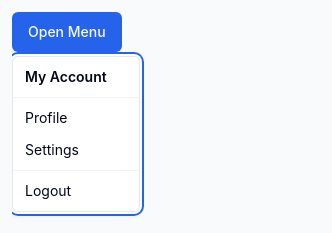
Scenario: DropdownMenu › interaction › should close dropdown when an item is clicked
The image size is (332, 233).
Expected: the menu is shown, [12,56,140,212]
Click the menu item "Profile" at (46, 118), box [25,109,68,126]
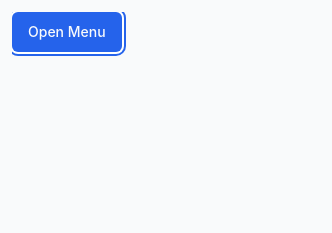
Expected: the menu is gone
